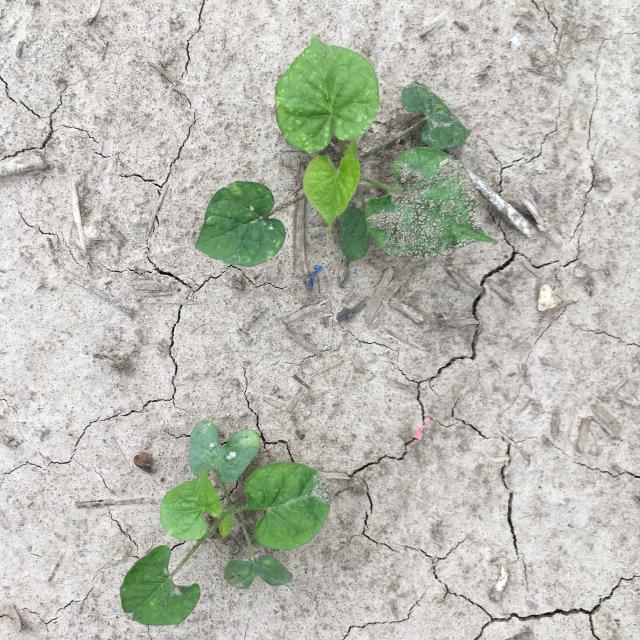MorningGlory: (194, 32, 496, 267), (119, 421, 337, 625)
